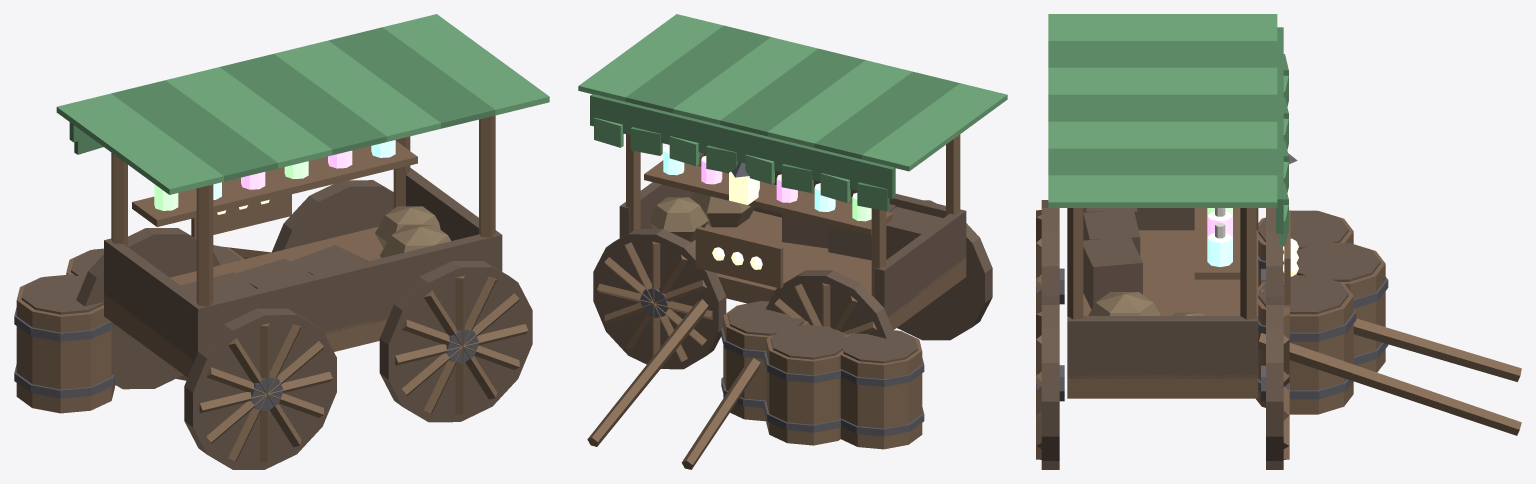
File: market_wagon.glb
The picture shows the model from 3 angles, left to right: view 1: azimuth 30°, elevation 25°; view 2: azimuth 150°, elevation 25°; view 3: azimuth 270°, elevation 25°; orthographic projection. The views are drawn at different scales.
Parts seen in each view (by area): view 1: market_wagon; view 2: market_wagon; view 3: market_wagon.
Boxes of the visible parts, x1,y1,x2,y2 form: market_wagon: [14, 14, 549, 469]; market_wagon: [578, 14, 1007, 469]; market_wagon: [1036, 14, 1521, 469].
Bounding box in the file's own units: 3.7 × 2.64 × 3.81.
